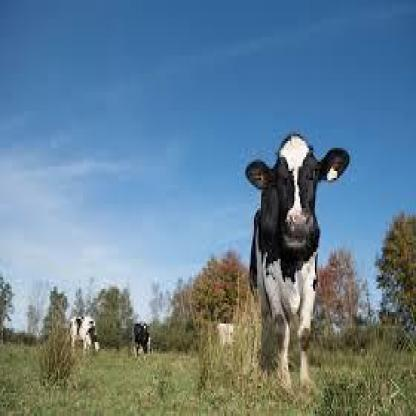cow: (244, 133, 350, 394), (71, 314, 100, 358), (133, 321, 151, 361)
